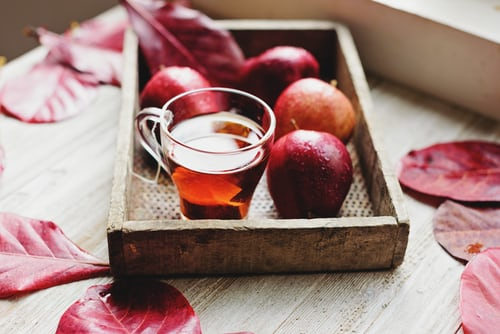apple: (265, 120, 352, 218), (272, 73, 356, 141), (134, 66, 231, 116)
